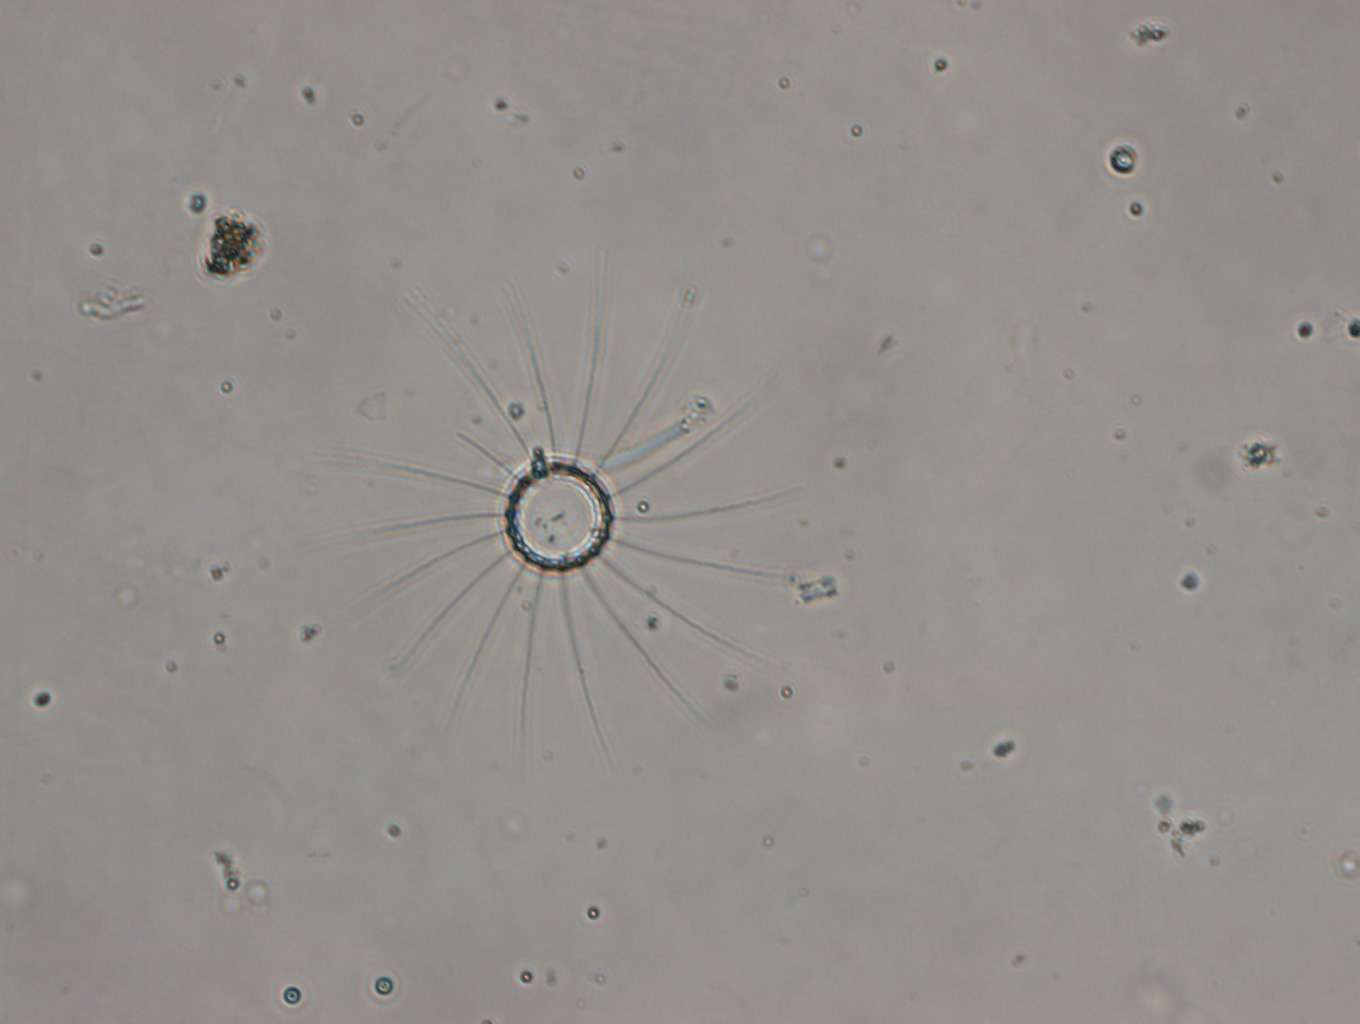bacteriastrum: (309, 274, 812, 767)
